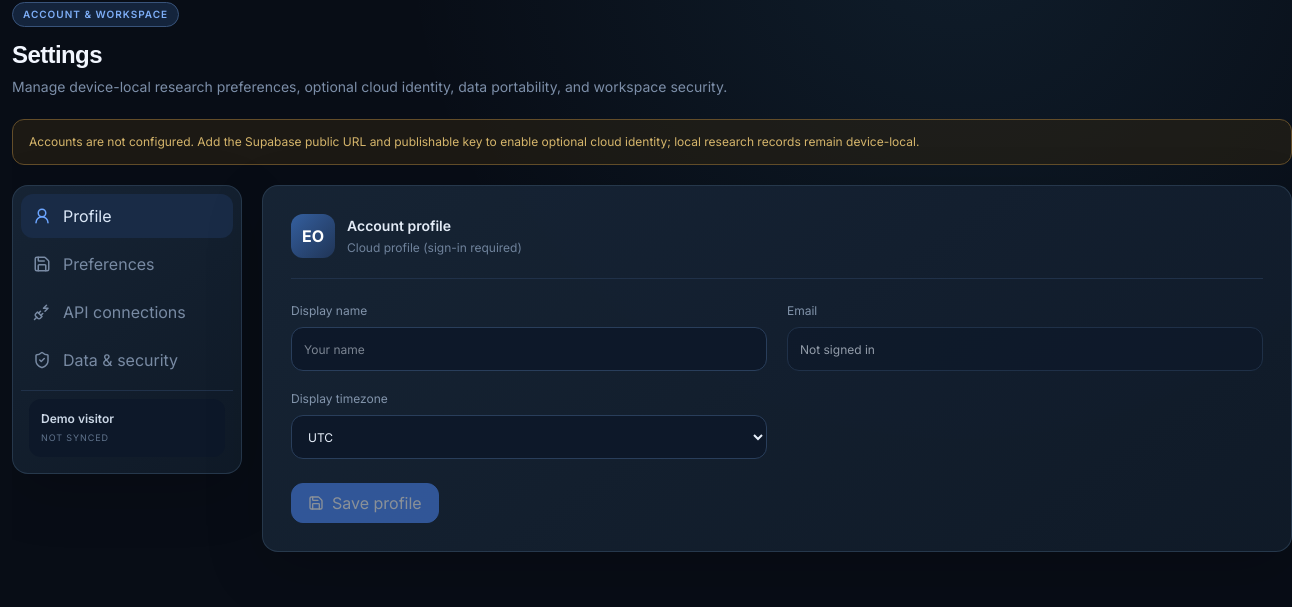
Test: desktop local preferences › hydrates and saves through the local private-data API without claiming cloud sync
The width and height of the screenshot is (1292, 607).
Click the button "Preferences".
click(127, 264)  # box x1=21 y1=242 x2=233 y2=286
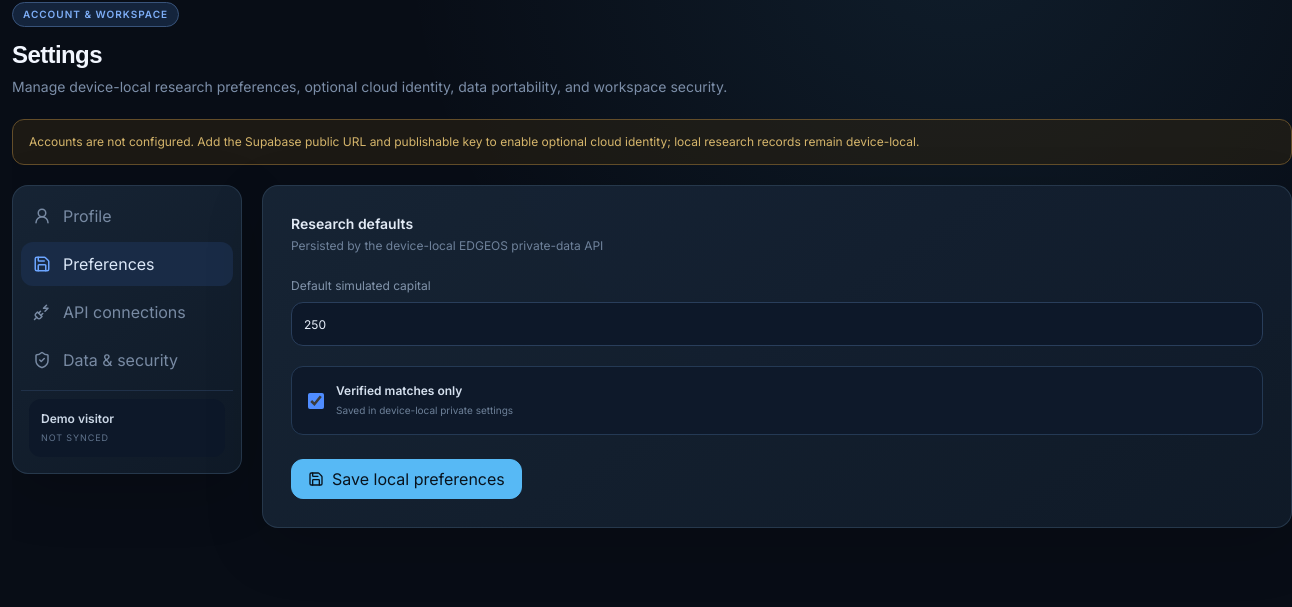
Now the number field labelled "Default simulated capital" holds "250"
Replace the text in the number field labelled "Default simulated capital" with "375" at (777, 324), box x1=291 y1=302 x2=1263 y2=346
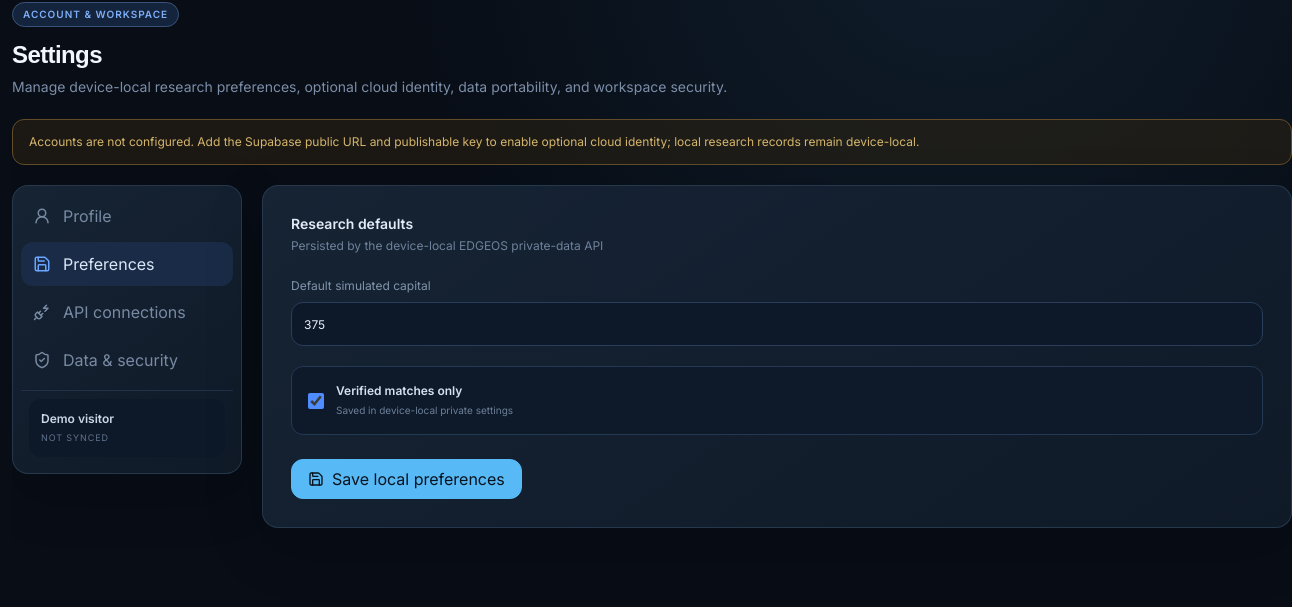
Click the button "Save local preferences".
click(406, 479)  # box x1=291 y1=459 x2=522 y2=499
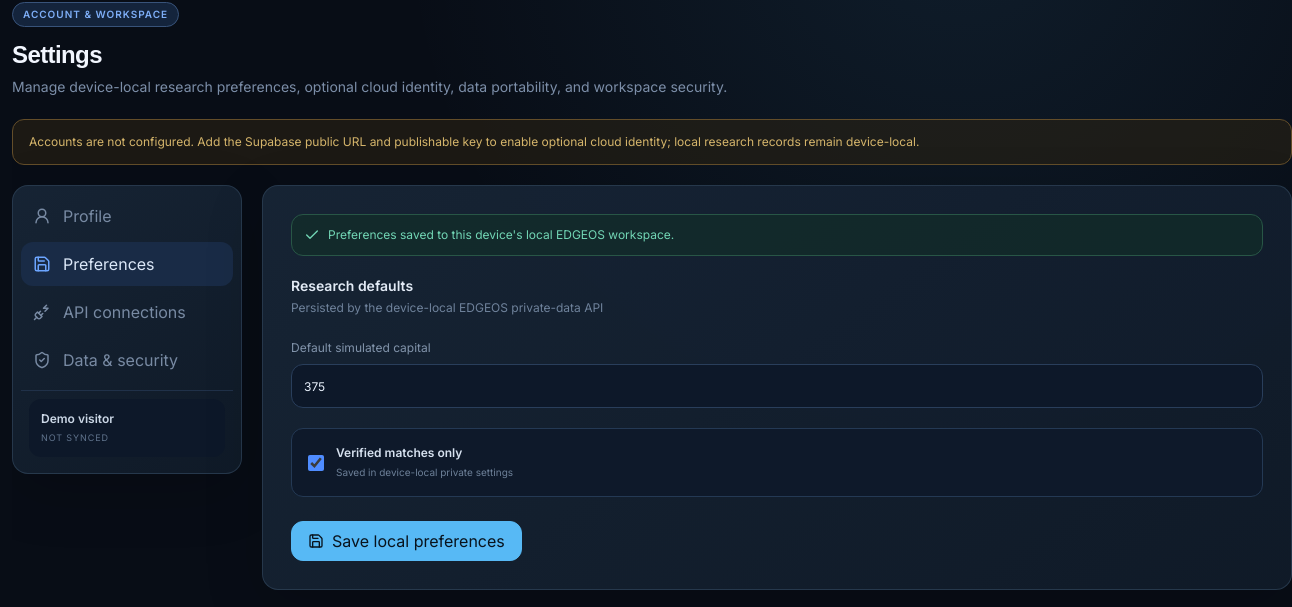
Now the text "Preferences saved to this device's local EDGEOS workspace." is shown, box x1=291 y1=214 x2=1263 y2=256
